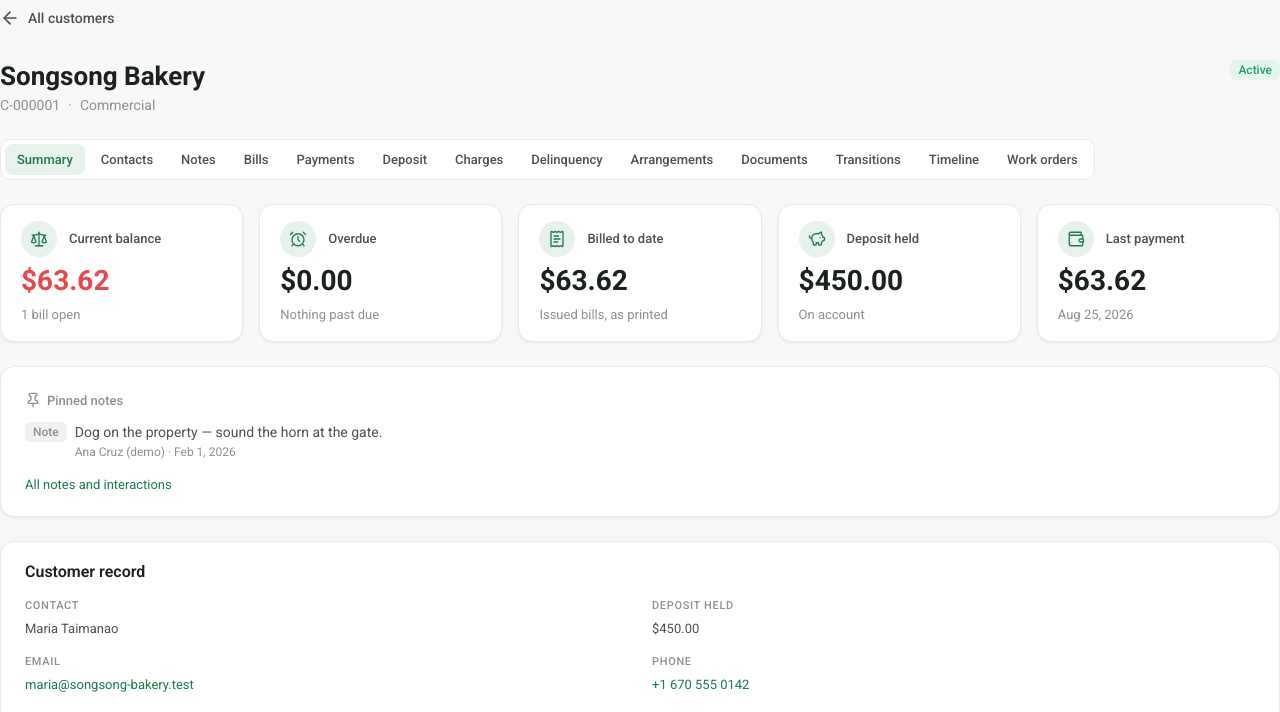
Test: CustomerDetailPage › lists the bills as a sortable table on its own tab
Expected: the heading "Songsong Bakery" is shown, [0,60,205,92]
Click the link "Bills" at (256, 159), box [244,152,268,166]
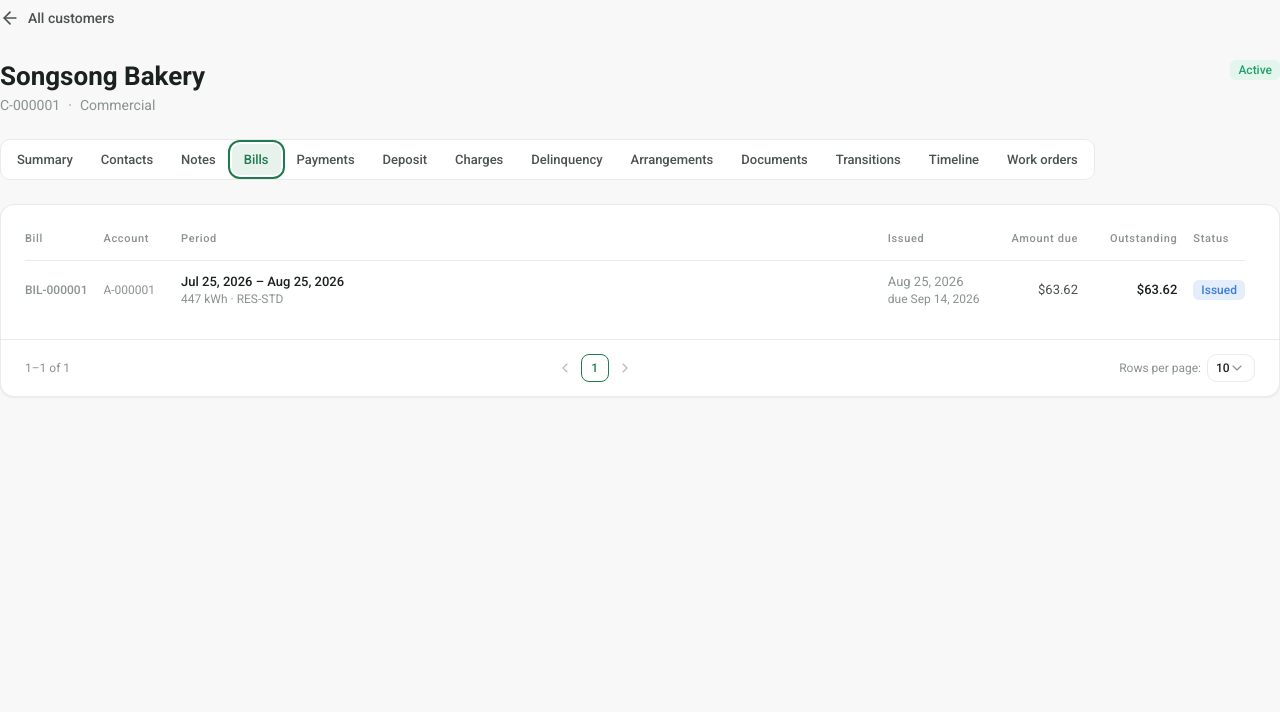
Expected: the 2nd text "$63.62" is shown, [1038,282,1078,296]
Expected: the text "BIL-000001" is shown, [25,282,88,296]
Expected: the button "Outstanding" is shown, [1090,229,1181,249]
